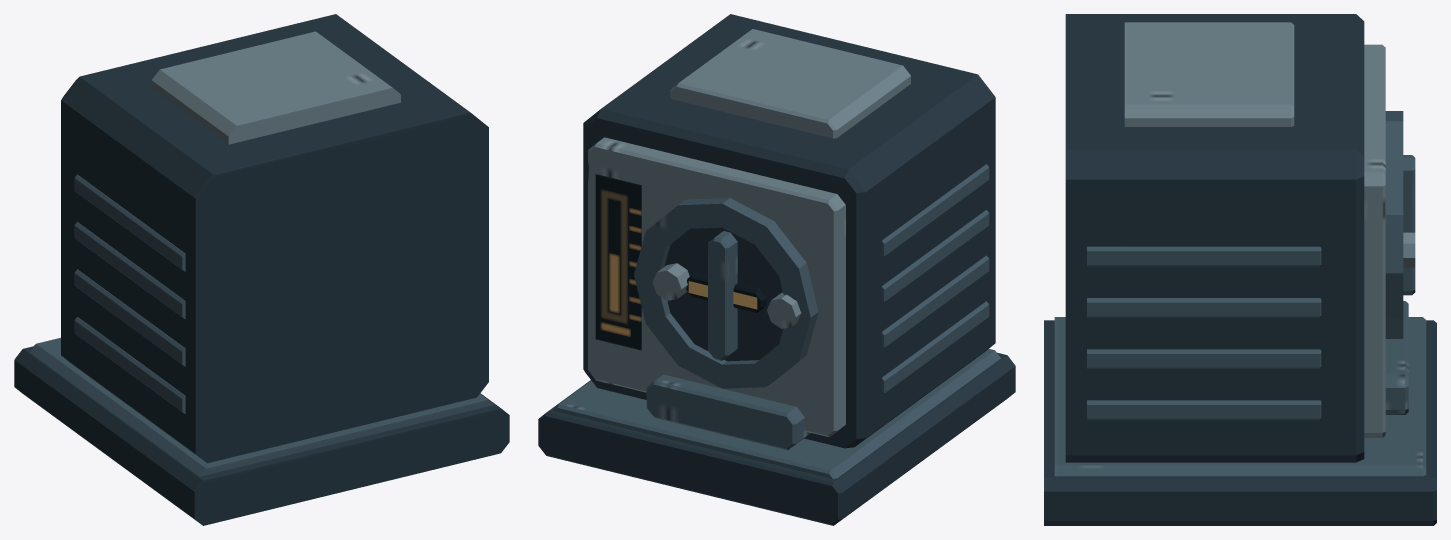
Rendered from titanium_alloy_furnace.obj.
3 views of the same model, side by side, from view 1: azimuth 30°, elevation 25°; view 2: azimuth 150°, elevation 25°; view 3: azimuth 270°, elevation 25° (orthographic). The views are drawn at different scales.
Parts seen in each view (by area): view 1: insulated_furnace_body, plinth, top_heat_exchanger, plinth_trim, heat_fin_1_05_0, heat_fin_1_05_1, heat_fin_1_05_3, heat_fin_1_05_2; view 2: insulated_furnace_body, refractory_front, plinth, top_heat_exchanger, pressure_door_rim, plinth_trim, thermal_gauge, ash_drawer, sealed_door, locking_crossbar, heat_fin_1_05_0, heat_fin_1_05_3 (+6 smaller); view 3: insulated_furnace_body, plinth, top_heat_exchanger, plinth_trim, refractory_front, heat_fin_14_55_0, heat_fin_14_55_3, heat_fin_14_55_1, heat_fin_14_55_2, pressure_door_rim, ash_drawer, locking_crossbar (+1 smaller).
Boxes of the visible parts, x1,y1,x2,y2 form: insulated_furnace_body: (61,14,488,463); plinth: (14,346,509,525); top_heat_exchanger: (151,31,400,144); plinth_trim: (29,337,493,476); heat_fin_1_05_0: (74,317,185,413); heat_fin_1_05_1: (74,269,185,366); heat_fin_1_05_3: (74,174,185,271); heat_fin_1_05_2: (74,222,185,318); insulated_furnace_body: (583,14,995,448); refractory_front: (588,137,845,437); plinth: (538,352,1015,525); top_heat_exchanger: (670,29,910,138); pressure_door_rim: (634,198,818,388); plinth_trim: (553,349,1000,478); thermal_gauge: (595,174,641,350); ash_drawer: (646,374,810,450); sealed_door: (664,227,782,361); locking_crossbar: (708,231,737,360); heat_fin_1_05_0: (881,301,989,394); heat_fin_1_05_3: (881,164,989,257); insulated_furnace_body: (1065,14,1364,462); plinth: (1044,320,1436,525); top_heat_exchanger: (1124,22,1294,126); plinth_trim: (1054,317,1426,476); refractory_front: (1364,44,1385,437); heat_fin_14_55_0: (1087,400,1321,420); heat_fin_14_55_3: (1087,246,1321,266); heat_fin_14_55_1: (1087,349,1321,368); heat_fin_14_55_2: (1087,298,1321,317); pressure_door_rim: (1385,111,1403,338); ash_drawer: (1385,301,1408,414); locking_crossbar: (1403,155,1415,295).
Size of the model in its own units: 0.9125 by 0.9844 by 0.9125.
